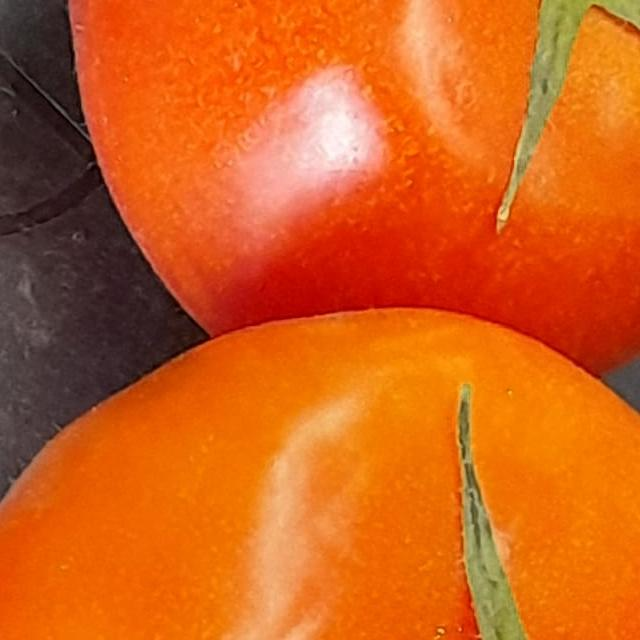tomato: (63, 0, 640, 370), (0, 309, 640, 640)
